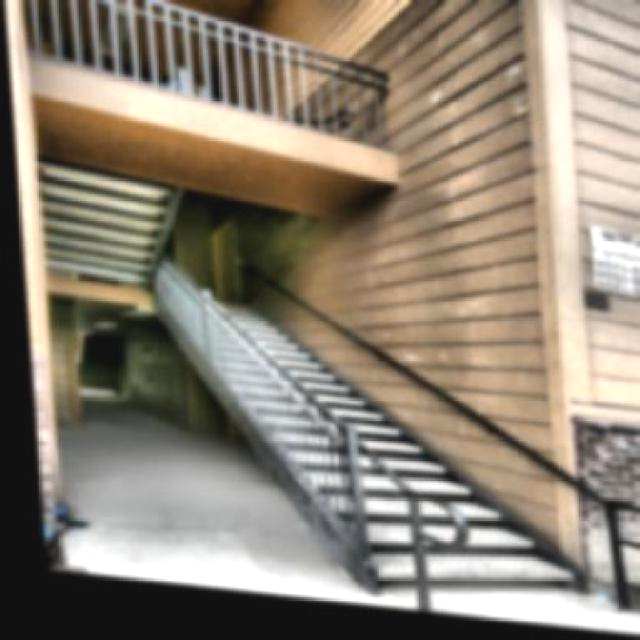stair: (149, 340, 589, 620)
